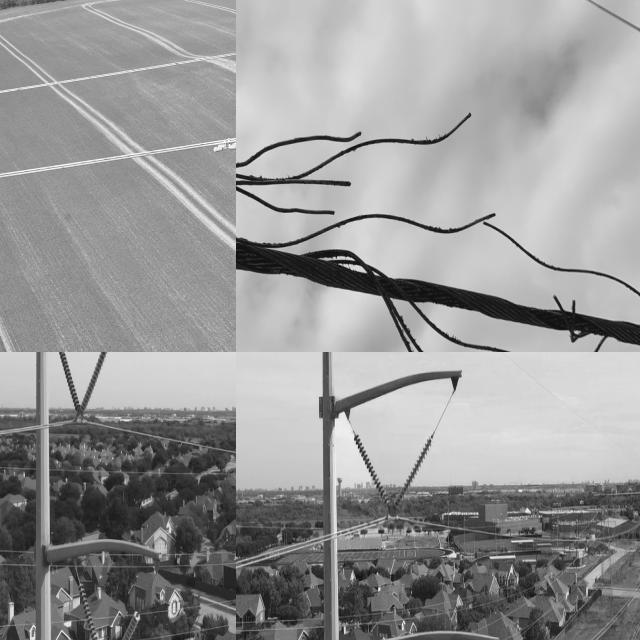正常电缆: (494, 352, 622, 455), (0, 45, 236, 97), (0, 133, 236, 182), (236, 513, 377, 578), (417, 516, 640, 549), (584, 581, 640, 640)
正常绝缘子: (349, 431, 410, 536), (384, 424, 443, 529), (71, 352, 113, 434), (55, 352, 88, 432), (69, 567, 103, 640), (113, 590, 151, 640)
电缆破损: (236, 90, 640, 352)
